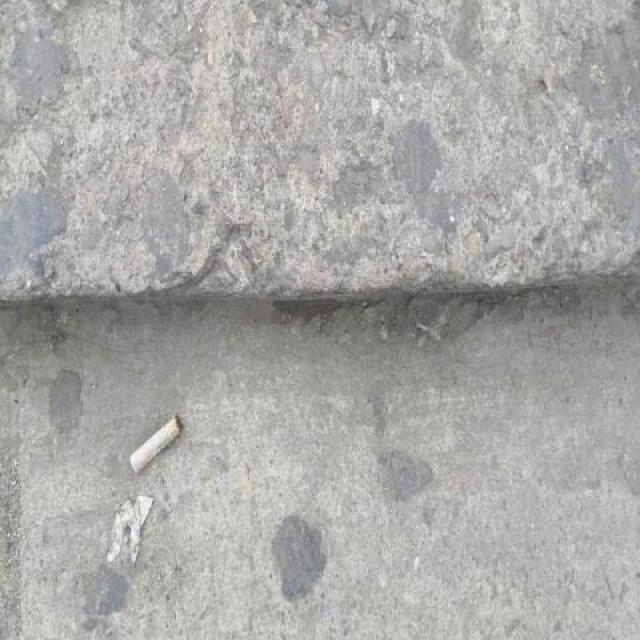non-organic waste: (128, 409, 185, 475)
